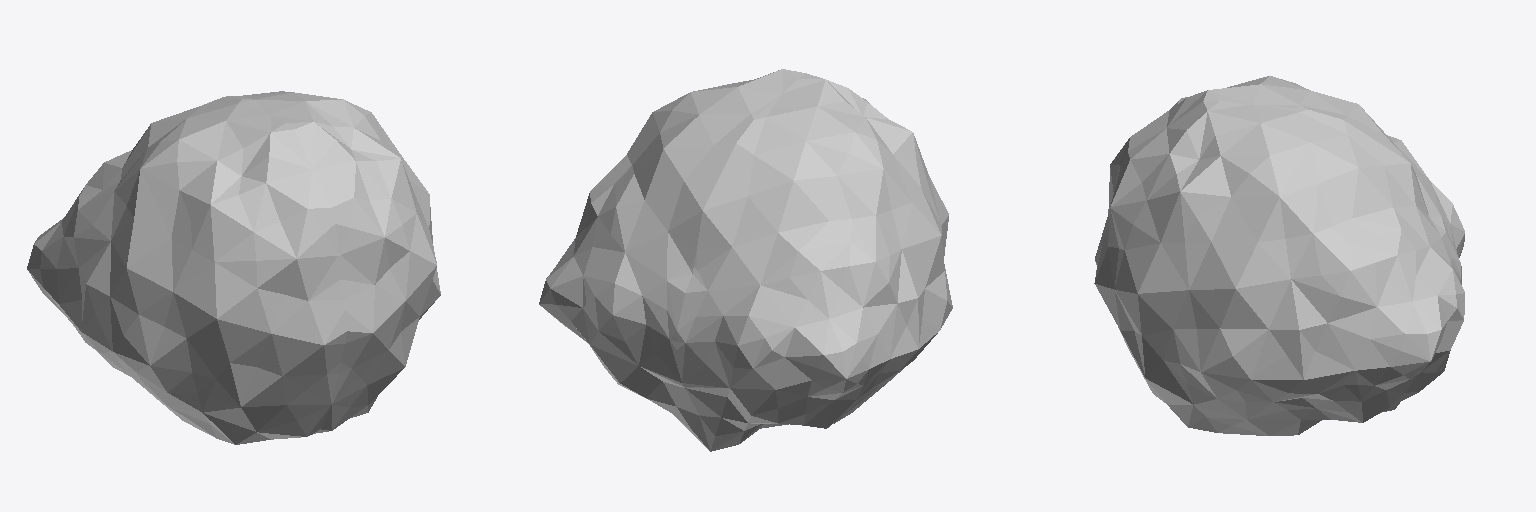
File: StaticBoulder1.obj
3 views of the same model, side by side, from view 1: azimuth 30°, elevation 25°; view 2: azimuth 150°, elevation 25°; view 3: azimuth 270°, elevation 25° (orthographic).
Bounding box in the file's own units: 2.15 × 1.97 × 2.13.